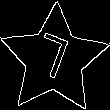L_S: (31, 31, 77, 89)
